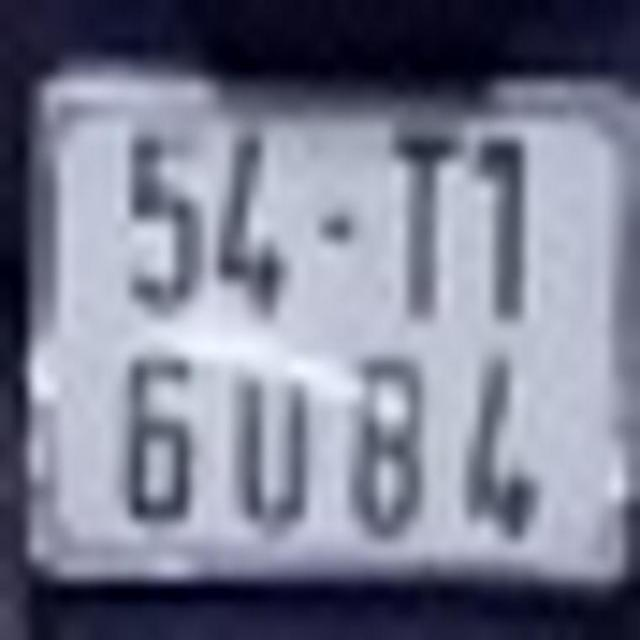0: (236, 344, 312, 533)
1: (472, 135, 524, 324)
4: (463, 352, 537, 545), (216, 135, 283, 312)
5: (128, 133, 203, 310)
6: (130, 352, 200, 523)
8: (346, 352, 425, 535)
T: (390, 132, 461, 316)
